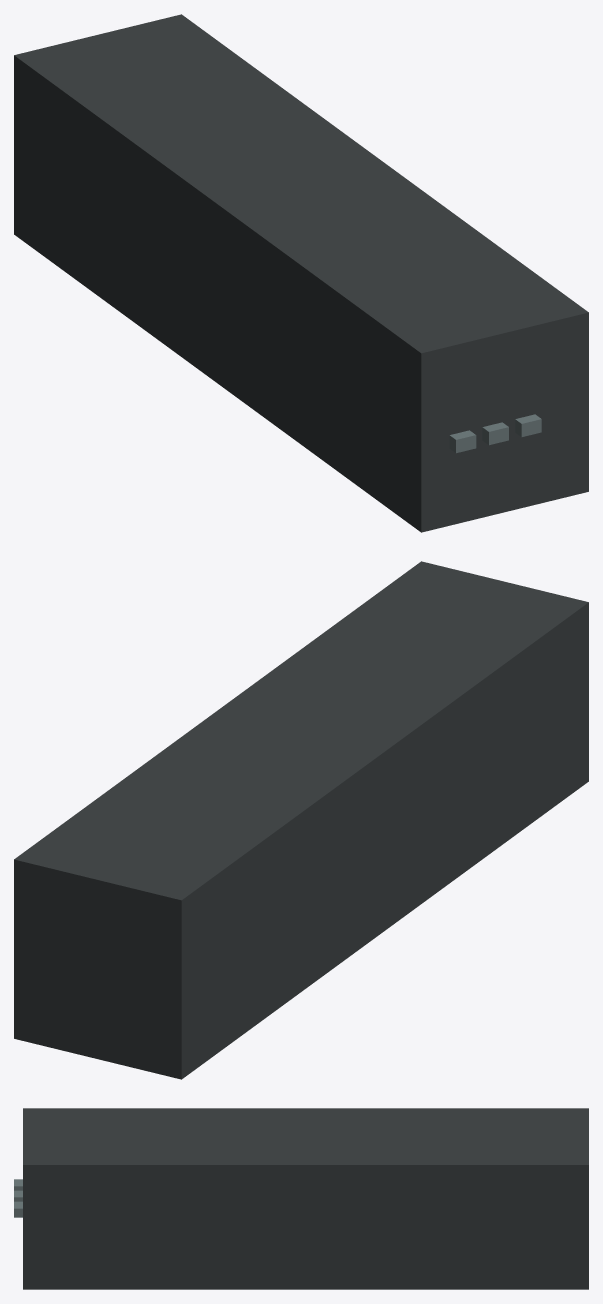
Rendered from rowing_machine.glb.
3 views of the same model, one above another, from view 1: azimuth 30°, elevation 25°; view 2: azimuth 150°, elevation 25°; view 3: azimuth 270°, elevation 25° (orthographic). The views are drawn at different scales.
Parts seen in each view (by area): view 1: body; view 2: body; view 3: body.
Part boxes in pixels (box(x1,y1,x2,y2)): body: box(14, 14, 588, 532); body: box(14, 561, 588, 1079); body: box(14, 1108, 588, 1289).
Bounding box in the file's own units: 0.46 × 0.47 × 1.97.
1 material, 1 textured.
